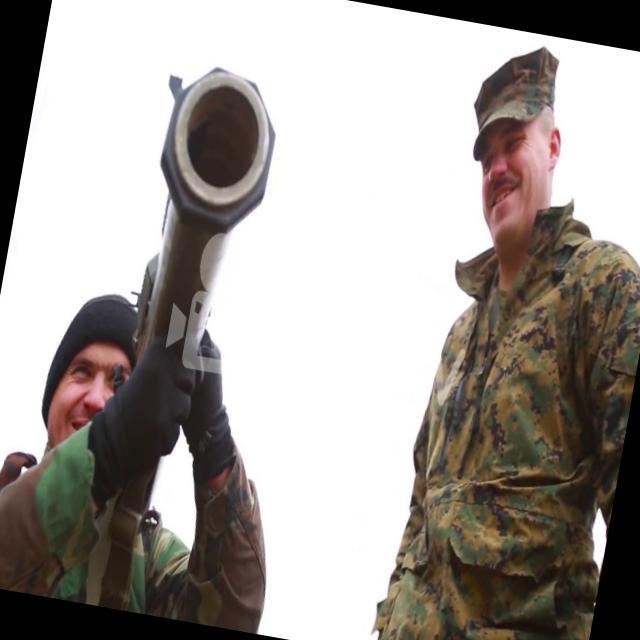rocket: (126, 58, 284, 374)
